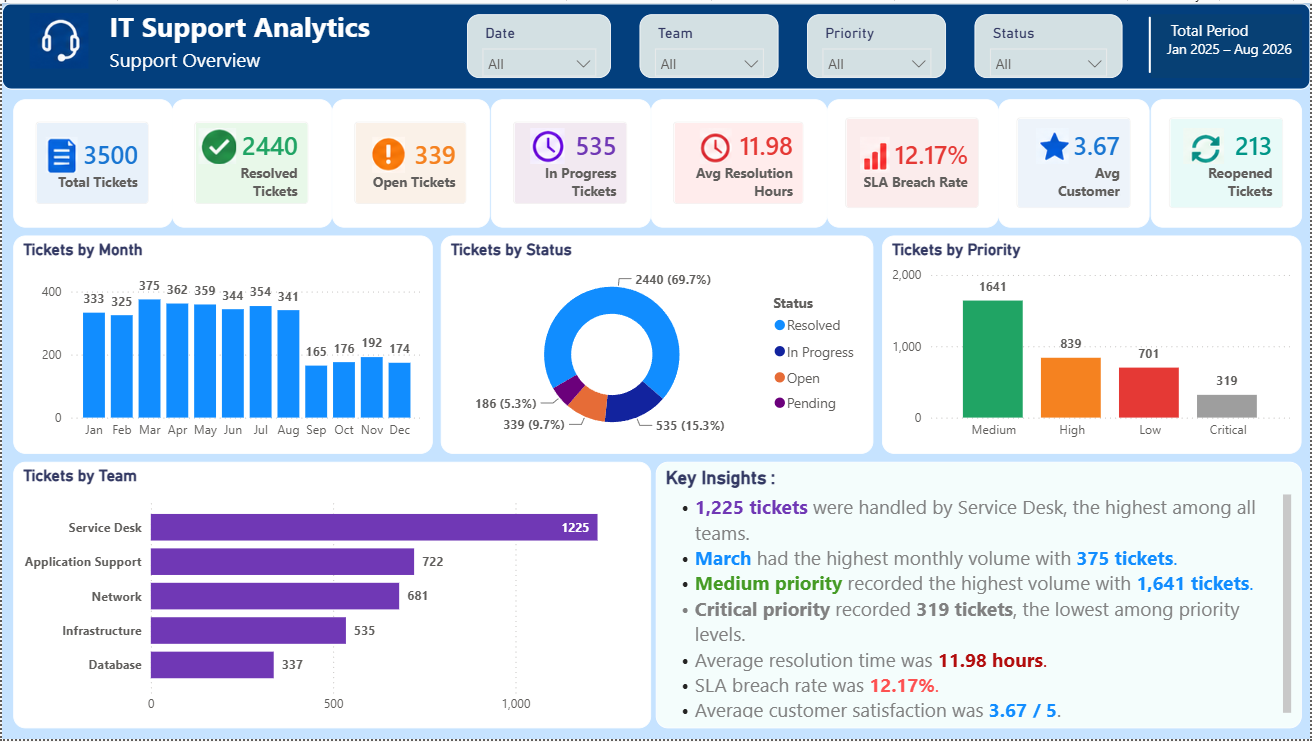

What the dashboard file says about the page in this screenshot:
{"tool":"powerbi","page":{"name":"Support Overview","canvas":[1280,720],"ordinal":0},"visuals":[{"type":"shape","box":[0,0,1280.3,85.1],"z":0},{"type":"textbox","box":[100.1,0,1179.9,85.7],"z":1000},{"type":"textbox","box":[100.1,37.4,300.4,48.3],"z":2000},{"type":"cardVisual","fields":{"Data":["it_support_analytics tickets.Total Tickets"]},"box":[10.9,94.1,155.6,125.5],"z":3000},{"type":"cardVisual","fields":{"Data":["it_support_analytics tickets.Resolved Tickets"]},"box":[166.5,94.1,156.8,125.5],"z":4000},{"type":"cardVisual","fields":{"Data":["it_support_analytics tickets.Open Tickets"]},"box":[323.3,94.1,154.4,125.5],"z":5000},{"type":"cardVisual","fields":{"Data":["it_support_analytics tickets.In Progress Tickets"]},"box":[477.8,94.1,156.8,125.5],"z":6000},{"type":"cardVisual","fields":{"Data":["it_support_analytics tickets.SLA Breach Rate"]},"box":[807.1,94.1,167.7,125.5],"z":7000},{"type":"clusteredColumnChart","title":"Tickets by Month","fields":{"Y":["CountNonNull(it_support_analytics tickets.Ticket_ID)"],"Category":["it_support_analytics tickets.Month Short"]},"box":[10.9,228,410.2,213.5],"z":8000},{"type":"donutChart","title":"Tickets by Status","fields":{"Category":["it_support_analytics tickets.Status"],"Y":["CountNonNull(it_support_analytics tickets.Ticket_ID)"]},"box":[429.5,228,423.5,213.5],"z":9000},{"type":"clusteredColumnChart","title":"Tickets by Priority","fields":{"Category":["it_support_analytics tickets.Priority"],"Y":["CountNonNull(it_support_analytics tickets.Ticket_ID)"]},"box":[861.4,228,410.2,213.5],"z":10000},{"type":"clusteredBarChart","title":"Tickets by Team","fields":{"Category":["it_support_analytics tickets.Team"],"Y":["CountNonNull(it_support_analytics tickets.Ticket_ID)"]},"box":[10.9,448.8,623.7,260.6],"z":11000},{"type":"slicer","fields":{"Values":["it_support_analytics tickets.Created_Date"]},"box":[454.8,10.9,141.2,62.7],"z":12000},{"type":"slicer","fields":{"Values":["it_support_analytics tickets.Team"]},"box":[623.4,10.9,136.3,62.7],"z":13000},{"type":"slicer","fields":{"Values":["it_support_analytics tickets.Priority"]},"box":[787.2,10.9,136.3,62.7],"z":14000},{"type":"slicer","fields":{"Values":["it_support_analytics tickets.Status"]},"box":[951,10.9,144.8,62.7],"z":15000},{"type":"textbox","title":"Key Insights : ","box":[639.4,448.8,632.2,260.6],"z":16000},{"type":"image","box":[35,130.3,45.8,35],"z":17000},{"type":"image","box":[185.8,121.9,49.5,35],"z":18000},{"type":"image","box":[355.9,130.3,44.6,35],"z":19000},{"type":"image","box":[511.5,121.9,44.6,35],"z":20000},{"type":"cardVisual","fields":{"Data":["it_support_analytics tickets.Avg Resolution Hours"]},"box":[634.6,94.1,172.5,125.5],"z":21000},{"type":"cardVisual","fields":{"Data":["it_support_analytics tickets.Avg Customer Satisfaction"]},"box":[974.8,94.1,148.4,125.5],"z":22000},{"type":"cardVisual","fields":{"Data":["it_support_analytics tickets.Reopened Tickets"]},"box":[1123.2,94.1,148.4,125.5],"z":23000},{"type":"image","box":[676.8,121.9,44.6,35],"z":24000},{"type":"image","box":[831.2,130.3,44.6,35],"z":25000},{"type":"image","box":[1005,121.9,44.6,35],"z":26000},{"type":"image","box":[1153.4,121.9,44.6,35],"z":27000},{"type":"image","box":[10.9,9.7,89.3,54.3],"z":28000},{"type":"textbox","box":[1123.2,10.9,148.4,62.7],"z":29000},{"type":"shape","box":[1100.3,14,44.6,55],"z":30000}]}

Visuals, with their boxes in screenshot pixels (x1, y1, x2, y2), scaled from the page's 1280x720 canvas onto the 1312x742 screenshot:
shape: x1=0, y1=0, x2=1311, y2=88
textbox: x1=103, y1=0, x2=1311, y2=88
textbox: x1=103, y1=39, x2=411, y2=88
cardVisual - it_support_analytics tickets.Total Tickets: x1=11, y1=97, x2=171, y2=226
cardVisual - it_support_analytics tickets.Resolved Tickets: x1=171, y1=97, x2=331, y2=226
cardVisual - it_support_analytics tickets.Open Tickets: x1=331, y1=97, x2=490, y2=226
cardVisual - it_support_analytics tickets.In Progress Tickets: x1=490, y1=97, x2=650, y2=226
cardVisual - it_support_analytics tickets.SLA Breach Rate: x1=827, y1=97, x2=999, y2=226
"Tickets by Month" clusteredColumnChart: x1=11, y1=235, x2=432, y2=455
"Tickets by Status" donutChart: x1=440, y1=235, x2=874, y2=455
"Tickets by Priority" clusteredColumnChart: x1=883, y1=235, x2=1303, y2=455
"Tickets by Team" clusteredBarChart: x1=11, y1=463, x2=650, y2=731
slicer - it_support_analytics tickets.Created_Date: x1=466, y1=11, x2=611, y2=76
slicer - it_support_analytics tickets.Team: x1=639, y1=11, x2=779, y2=76
slicer - it_support_analytics tickets.Priority: x1=807, y1=11, x2=947, y2=76
slicer - it_support_analytics tickets.Status: x1=975, y1=11, x2=1123, y2=76
"Key Insights : " textbox: x1=655, y1=463, x2=1303, y2=731
image: x1=36, y1=134, x2=83, y2=170
image: x1=190, y1=126, x2=241, y2=162
image: x1=365, y1=134, x2=411, y2=170
image: x1=524, y1=126, x2=570, y2=162
cardVisual - it_support_analytics tickets.Avg Resolution Hours: x1=650, y1=97, x2=827, y2=226
cardVisual - it_support_analytics tickets.Avg Customer Satisfaction: x1=999, y1=97, x2=1151, y2=226
cardVisual - it_support_analytics tickets.Reopened Tickets: x1=1151, y1=97, x2=1303, y2=226
image: x1=694, y1=126, x2=739, y2=162
image: x1=852, y1=134, x2=898, y2=170
image: x1=1030, y1=126, x2=1076, y2=162
image: x1=1182, y1=126, x2=1228, y2=162
image: x1=11, y1=10, x2=103, y2=66
textbox: x1=1151, y1=11, x2=1303, y2=76
shape: x1=1128, y1=14, x2=1174, y2=71
